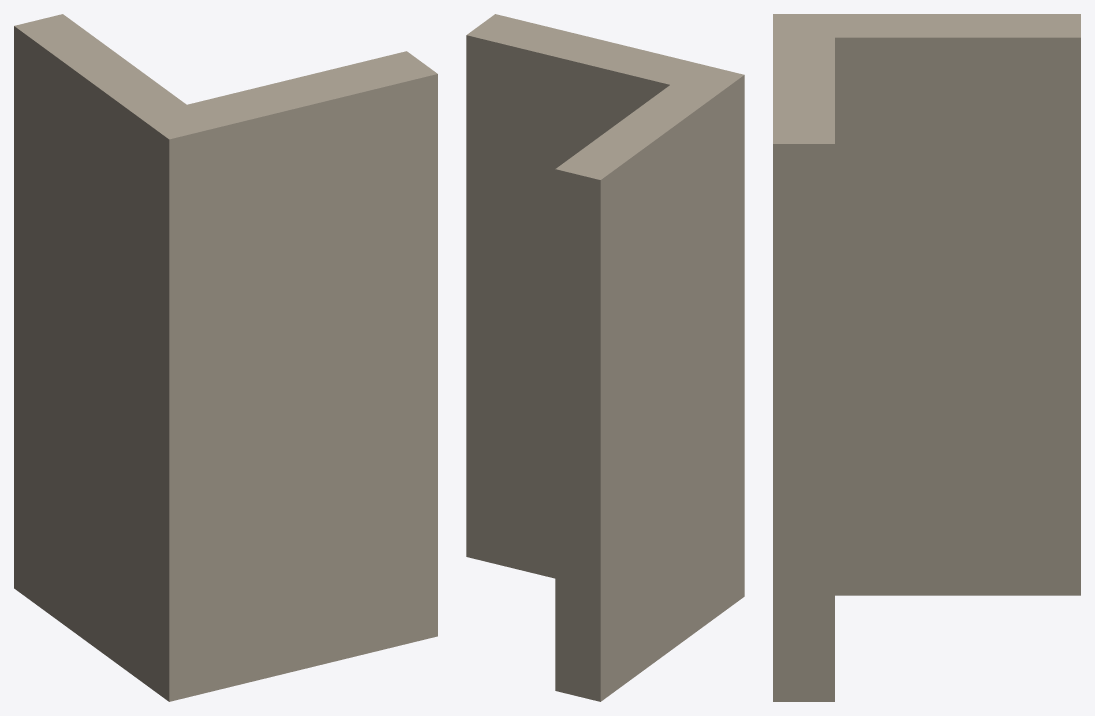
The model's file is Village_Wall_1m_Plaster_Corner.fbx.
The picture shows the model from 3 angles, left to right: view 1: azimuth 30°, elevation 25°; view 2: azimuth 150°, elevation 25°; view 3: azimuth 270°, elevation 25°; orthographic projection. The views are drawn at different scales.
Visible parts, largest first — view 1: Village_Wall_2m_Corner_A.046; view 2: Village_Wall_2m_Corner_A.046; view 3: Village_Wall_2m_Corner_A.046.
Part boxes in pixels (x1,y1,x2,y2): Village_Wall_2m_Corner_A.046: [14, 14, 437, 701]; Village_Wall_2m_Corner_A.046: [466, 14, 744, 701]; Village_Wall_2m_Corner_A.046: [773, 14, 1080, 701].
Size of the model in its own units: 100 by 200 by 100.
